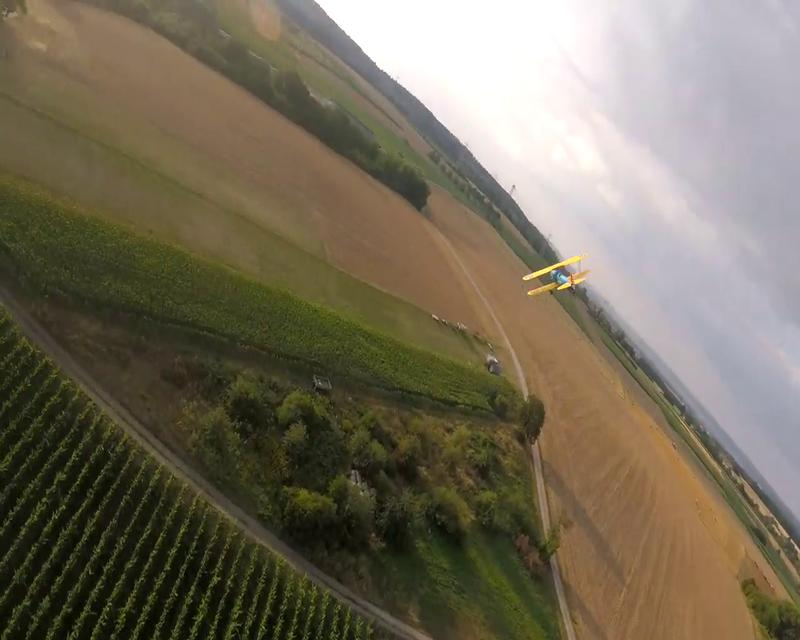UAV: (523, 253, 590, 298)
